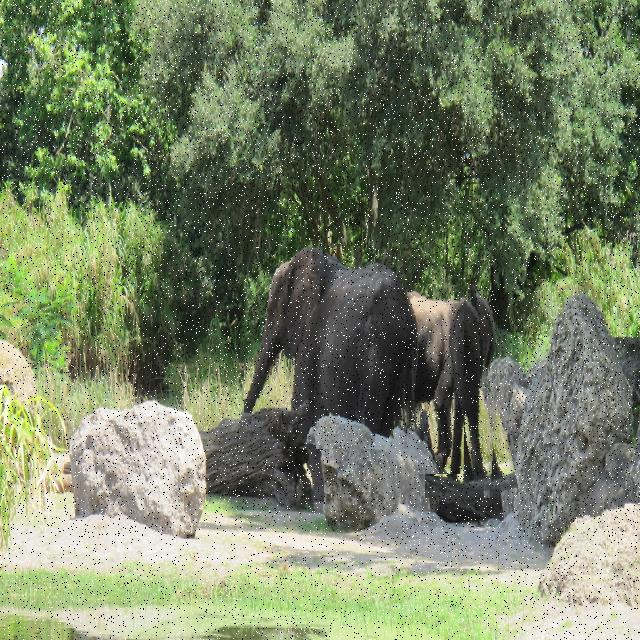elephant: (244, 238, 428, 449), (425, 283, 507, 498), (399, 284, 464, 474)
